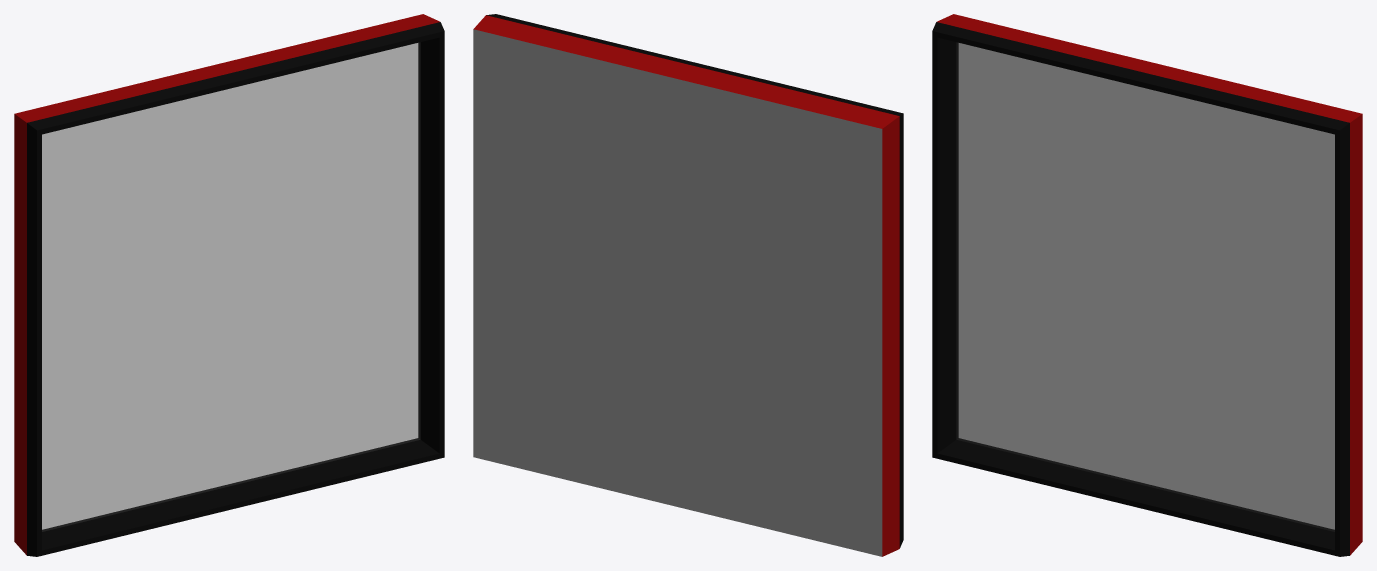
File: window_black.fbx
The picture shows the model from 3 angles, left to right: view 1: azimuth 30°, elevation 25°; view 2: azimuth 150°, elevation 25°; view 3: azimuth 330°, elevation 25°; orthographic projection.
Parts seen in each view (by area): view 1: window_black, polySurface2; view 2: window_black; view 3: window_black, polySurface2.
Boxes of the visible parts, x1,y1,x2,y2 form: window_black: [14, 14, 444, 556]; polySurface2: [42, 43, 419, 531]; window_black: [473, 14, 903, 556]; window_black: [932, 14, 1362, 556]; polySurface2: [957, 43, 1334, 531].
Bounding box in the file's own units: 245 × 245 × 22.59.
